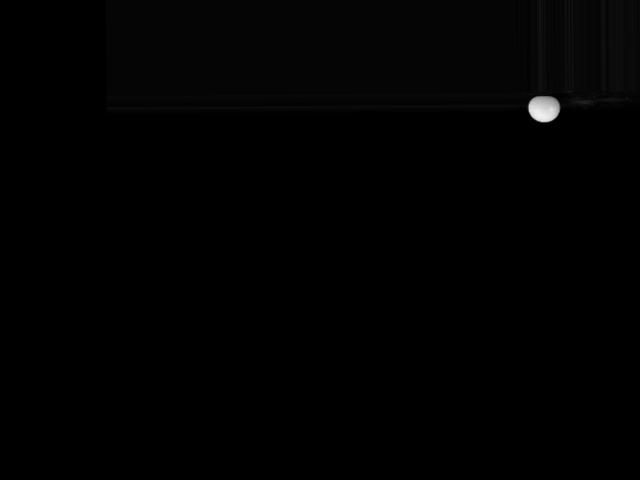egg: (528, 95, 561, 122)
